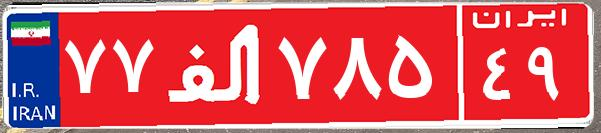4: (475, 38, 525, 113)
5: (385, 28, 445, 110)
7: (273, 28, 330, 110), (57, 26, 110, 107), (110, 28, 158, 105)
8: (330, 28, 385, 110)
9: (525, 38, 570, 115)
الف: (158, 15, 273, 115)
